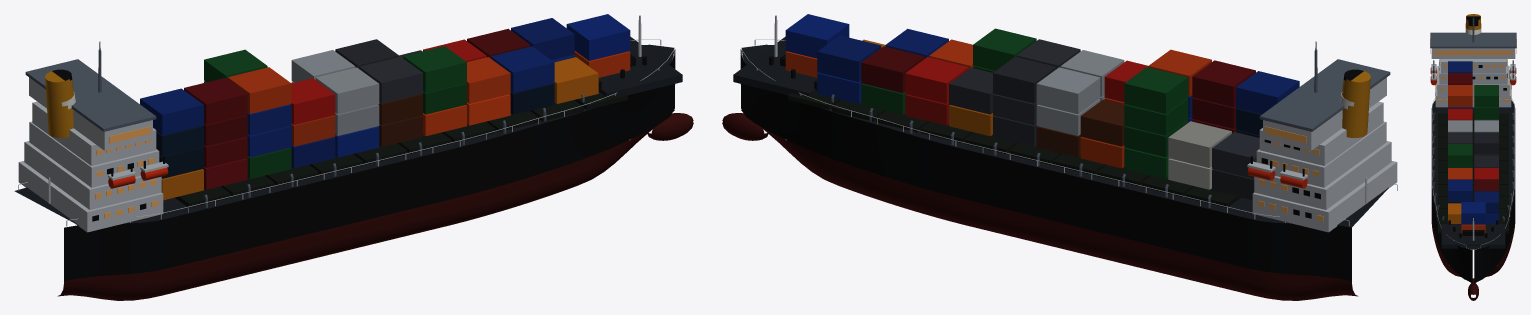
File: ship.glb
3 views of the same model, side by side, from view 1: azimuth 30°, elevation 25°; view 2: azimuth 150°, elevation 25°; view 3: azimuth 270°, elevation 25° (orthographic). The views are drawn at different scales.
Parts seen in each view (by area): view 1: containers, hull, upper, deck, lit; view 2: containers, hull, upper, deck, lit; view 3: containers, deck, upper, hull, lit.
Boxes of the visible parts, left/top/right/bottom form: containers: left=140, top=14, right=630, bottom=200; hull: left=57, top=49, right=693, bottom=300; upper: left=18, top=15, right=674, bottom=232; deck: left=14, top=36, right=682, bottom=225; lit: left=92, top=126, right=158, bottom=221; containers: left=785, top=14, right=1299, bottom=200; hull: left=722, top=49, right=1358, bottom=300; upper: left=741, top=15, right=1397, bottom=232; deck: left=733, top=36, right=1388, bottom=227; lit: left=1257, top=126, right=1323, bottom=221; containers: left=1448, top=61, right=1498, bottom=234; deck: left=1431, top=100, right=1515, bottom=249; upper: left=1430, top=14, right=1516, bottom=248; hull: left=1431, top=190, right=1515, bottom=300; lit: left=1430, top=39, right=1516, bottom=101.
Bounding box in the file's own units: 9.48 × 3.34 × 1.97.
